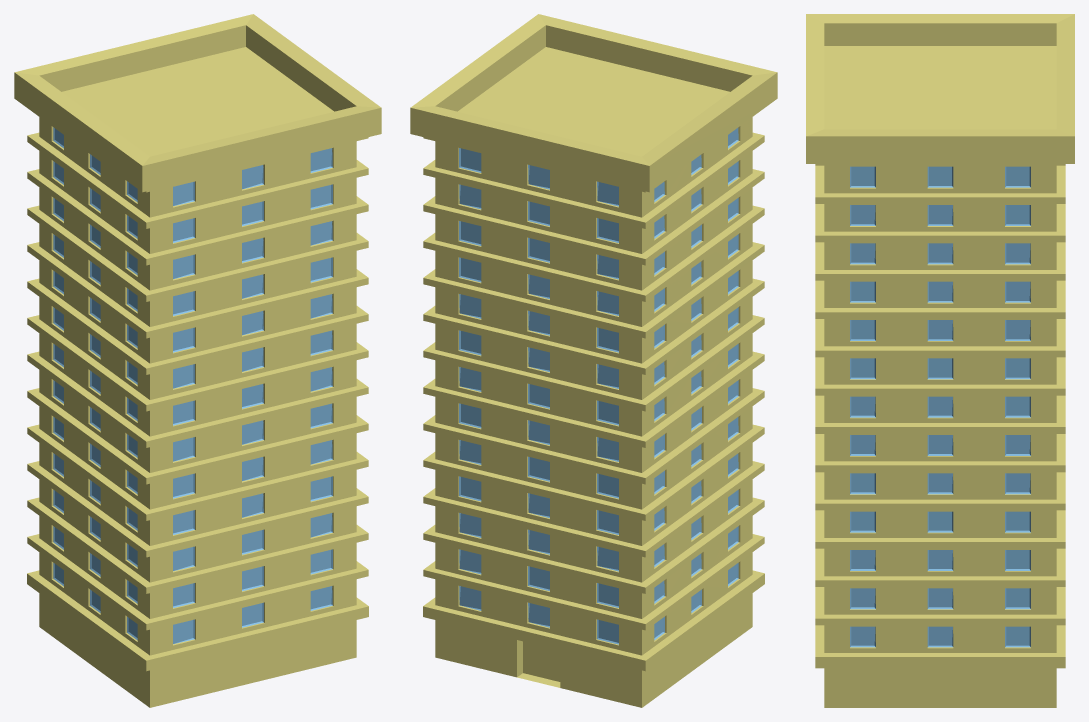
File: Yellow Medium.fbx
3 renders of one model, left to right at view 1: azimuth 30°, elevation 25°; view 2: azimuth 150°, elevation 25°; view 3: azimuth 270°, elevation 25°, orthographic. The views are drawn at different scales.
Parts seen in each view (by area): view 1: Yellow Medium; view 2: Yellow Medium; view 3: Yellow Medium.
Boxes of the visible parts, box(x1,y1,x2,y2) form: Yellow Medium: box(14, 14, 381, 707); Yellow Medium: box(410, 14, 777, 707); Yellow Medium: box(806, 14, 1074, 707).
Bounding box in the file's own units: 9.97 × 22.01 × 9.25.
